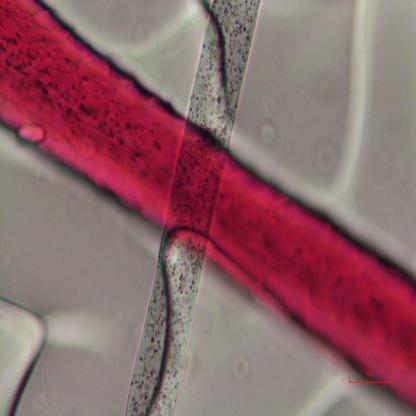Air bubble: (257, 0, 367, 204)
Hair textile: (0, 0, 416, 408)
Microfibre: (124, 0, 262, 416)
Pen: (0, 293, 49, 415)
